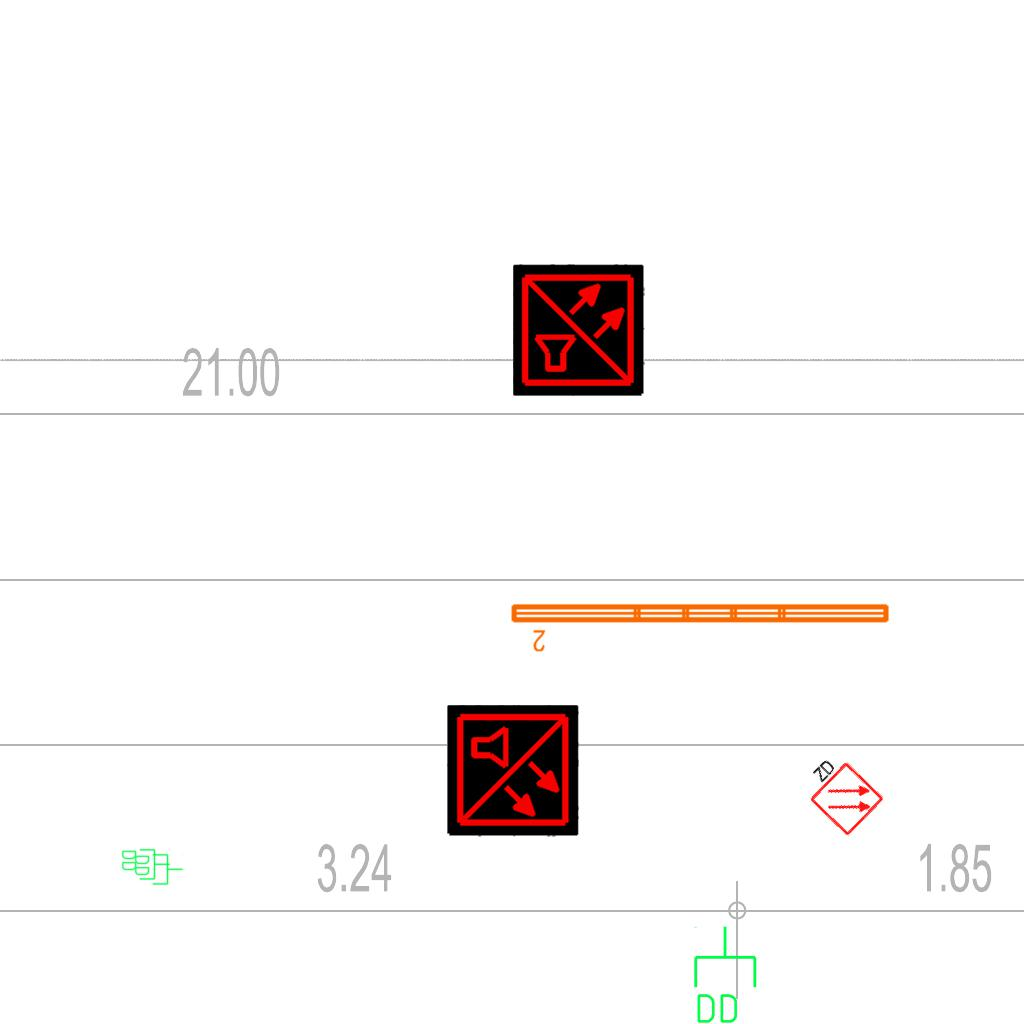Ambulanz_Pendelleuchte_LED: (507, 598, 894, 654)
Datenanschluss_zweifach: (690, 924, 759, 1024), (120, 847, 171, 881), (133, 852, 184, 886)
OKW_Multisensormelder_(Kombination_optischer_Rauch-Kahlenmonoxid_Waerme-Melder): (447, 705, 579, 837), (513, 264, 645, 396)
ZD_Melder_in_Zwischendecke_mit_Revisionsoeffnung_mind_40_x_40_cm: (793, 746, 886, 840)
